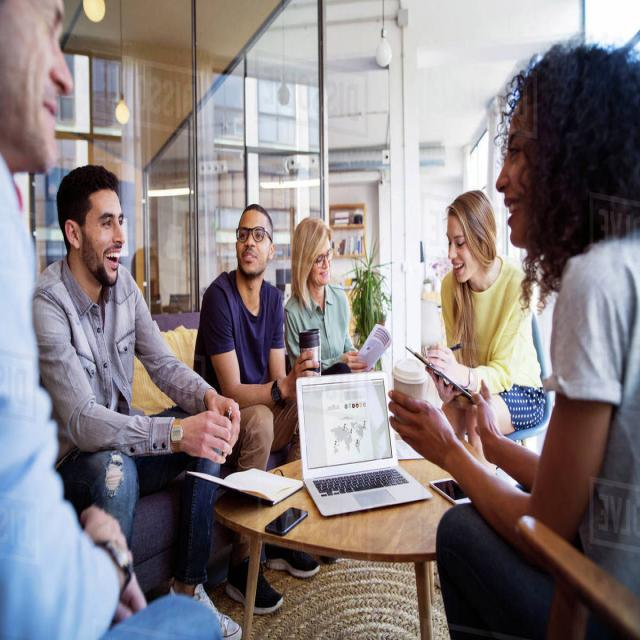adult: (383, 45, 640, 640), (31, 165, 237, 603), (188, 205, 311, 603), (430, 187, 529, 474), (284, 218, 383, 384)
